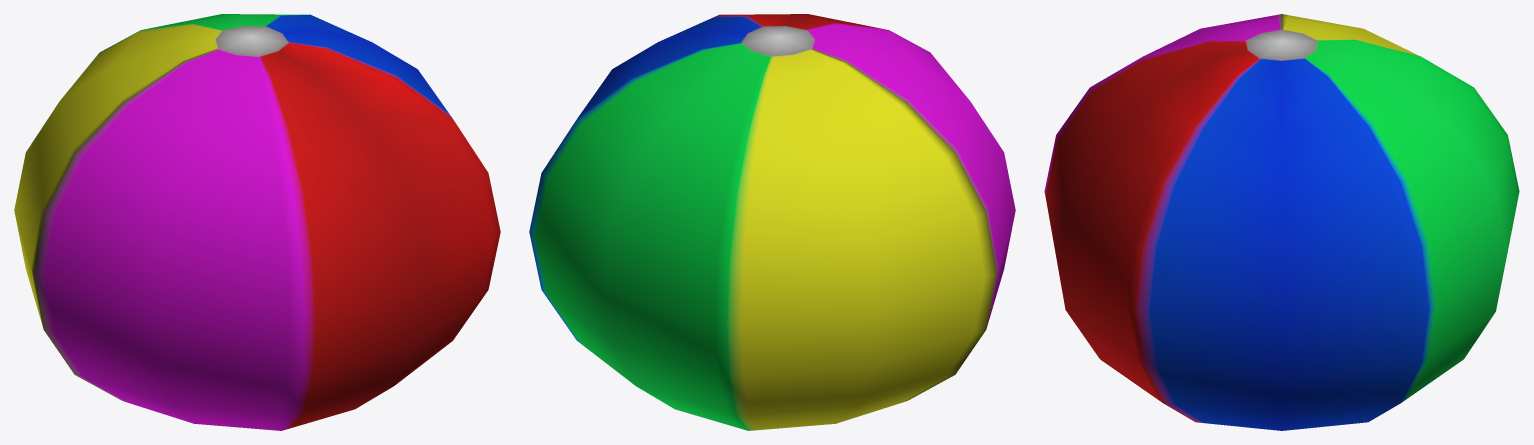
Rendered from Beachbomb_1_v3.fbx.
3 views of the same model, side by side, from view 1: azimuth 30°, elevation 25°; view 2: azimuth 150°, elevation 25°; view 3: azimuth 270°, elevation 25° (orthographic).
Visible parts, largest first — view 1: Beachbomb; view 2: Beachbomb; view 3: Beachbomb.
Part boxes in pixels (box(x1,y1,x2,y2)): Beachbomb: box(14, 14, 500, 430); Beachbomb: box(529, 14, 1015, 430); Beachbomb: box(1044, 14, 1519, 430).
Bounding box in the file's own units: 76.11 × 63.16 × 74.31.
